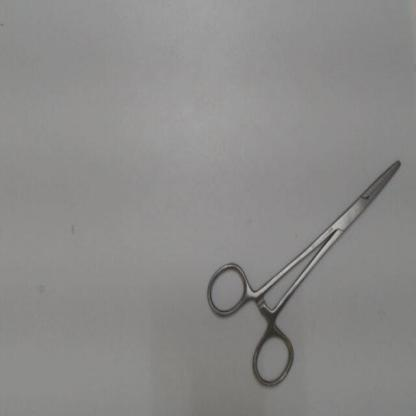Mayo Needle Holder: (197, 146, 413, 398)
